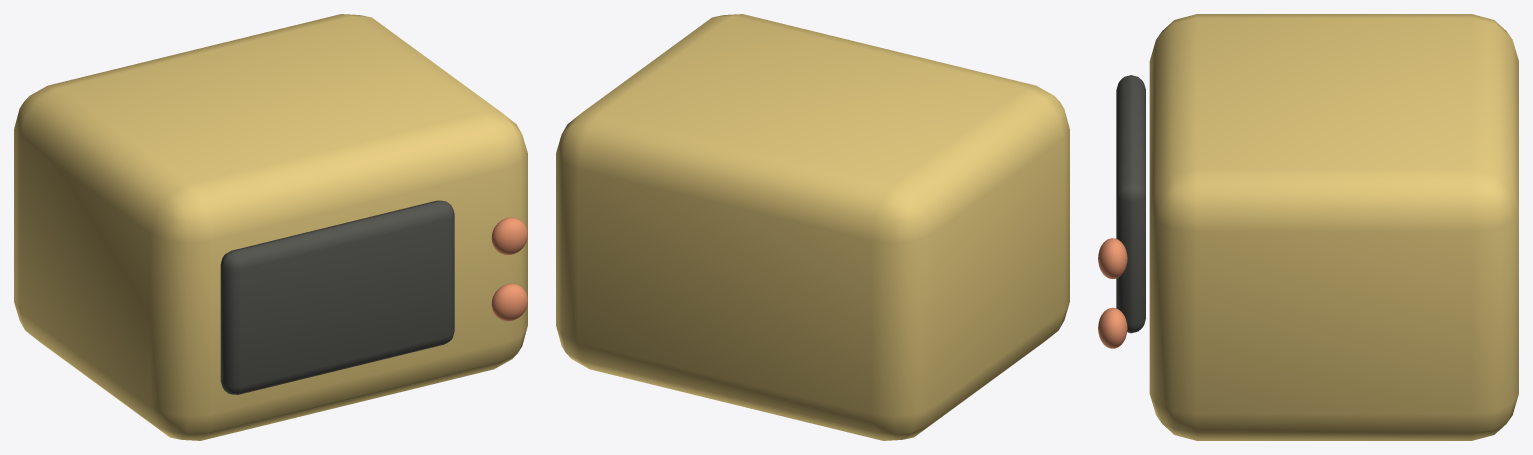
File: microwave.glb
3 views of the same model, side by side, from view 1: azimuth 30°, elevation 25°; view 2: azimuth 150°, elevation 25°; view 3: azimuth 270°, elevation 25° (orthographic). The views are drawn at different scales.
Visible parts, largest first — view 1: body.009, window, control, control.001; view 2: body.009; view 3: body.009, window, control.001, control.
Part boxes in pixels (box(x1,y1,x2,y2)): body.009: box(14, 14, 527, 440); window: box(220, 200, 454, 394); control: box(491, 217, 527, 254); control.001: box(491, 283, 527, 321); body.009: box(556, 14, 1069, 440); body.009: box(1149, 14, 1518, 440); window: box(1116, 75, 1145, 333); control.001: box(1098, 307, 1127, 348); control: box(1098, 238, 1127, 278).
Bounding box in the file's own units: 0.55 × 0.36 × 0.513.
